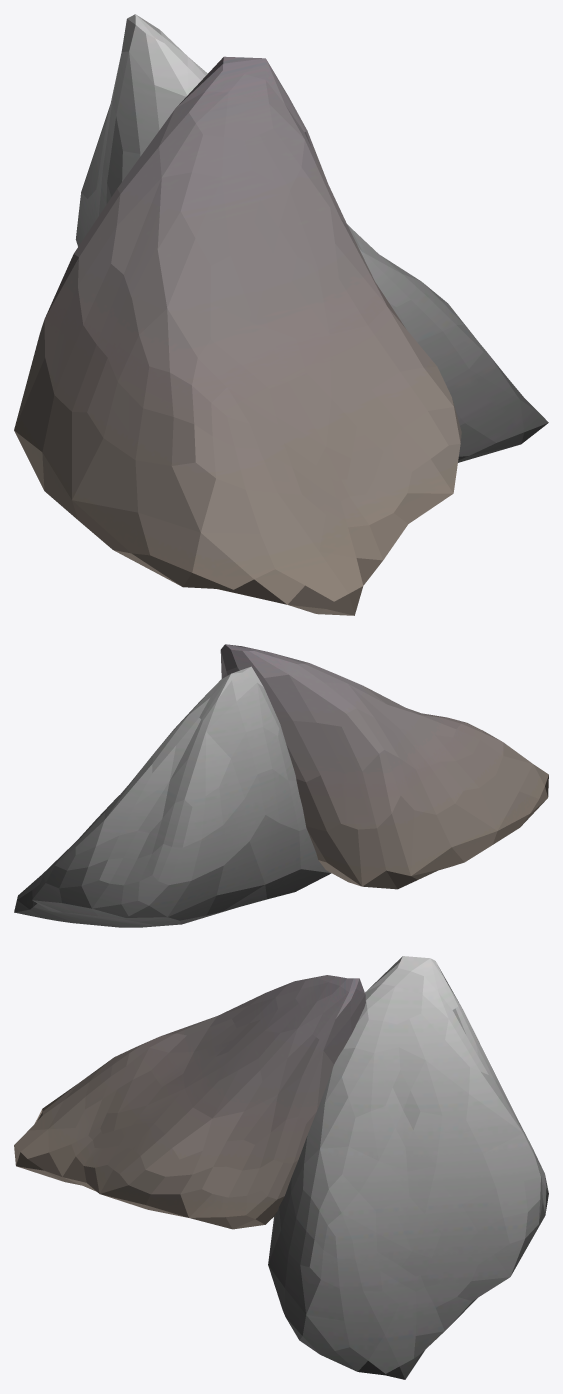
3 views of the same model, one above another, from view 1: azimuth 30°, elevation 25°; view 2: azimuth 150°, elevation 25°; view 3: azimuth 270°, elevation 25° (orthographic). The views are drawn at different scales.
Visible parts, largest first — view 1: DoubleRockShape_High; view 2: DoubleRockShape_High; view 3: DoubleRockShape_High.
Boxes of the visible parts, x1,y1,x2,y2 form: DoubleRockShape_High: (14,14,548,615); DoubleRockShape_High: (14,644,548,927); DoubleRockShape_High: (14,956,548,1379).
Size of the model in its own units: 79.93 by 60 by 93.81.
1 material, 1 textured.
